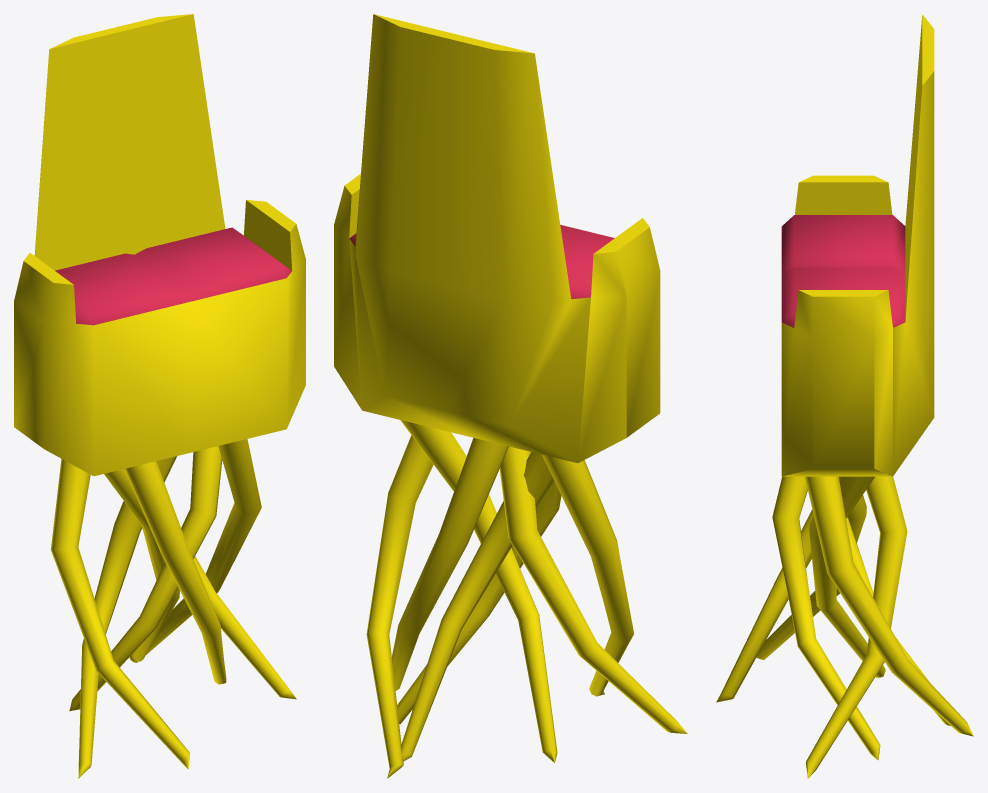
Rendered from Odin.fbx.
The picture shows the model from 3 angles, left to right: view 1: azimuth 30°, elevation 25°; view 2: azimuth 150°, elevation 25°; view 3: azimuth 270°, elevation 25°; orthographic projection. The views are drawn at different scales.
Parts seen in each view (by area): view 1: obj1; view 2: obj1; view 3: obj1.
Part boxes in pixels (x1,y1,x2,y2): obj1: [14, 14, 305, 778]; obj1: [334, 14, 687, 778]; obj1: [716, 14, 973, 778].
Size of the model in its own units: 499 by 1196 by 418.
